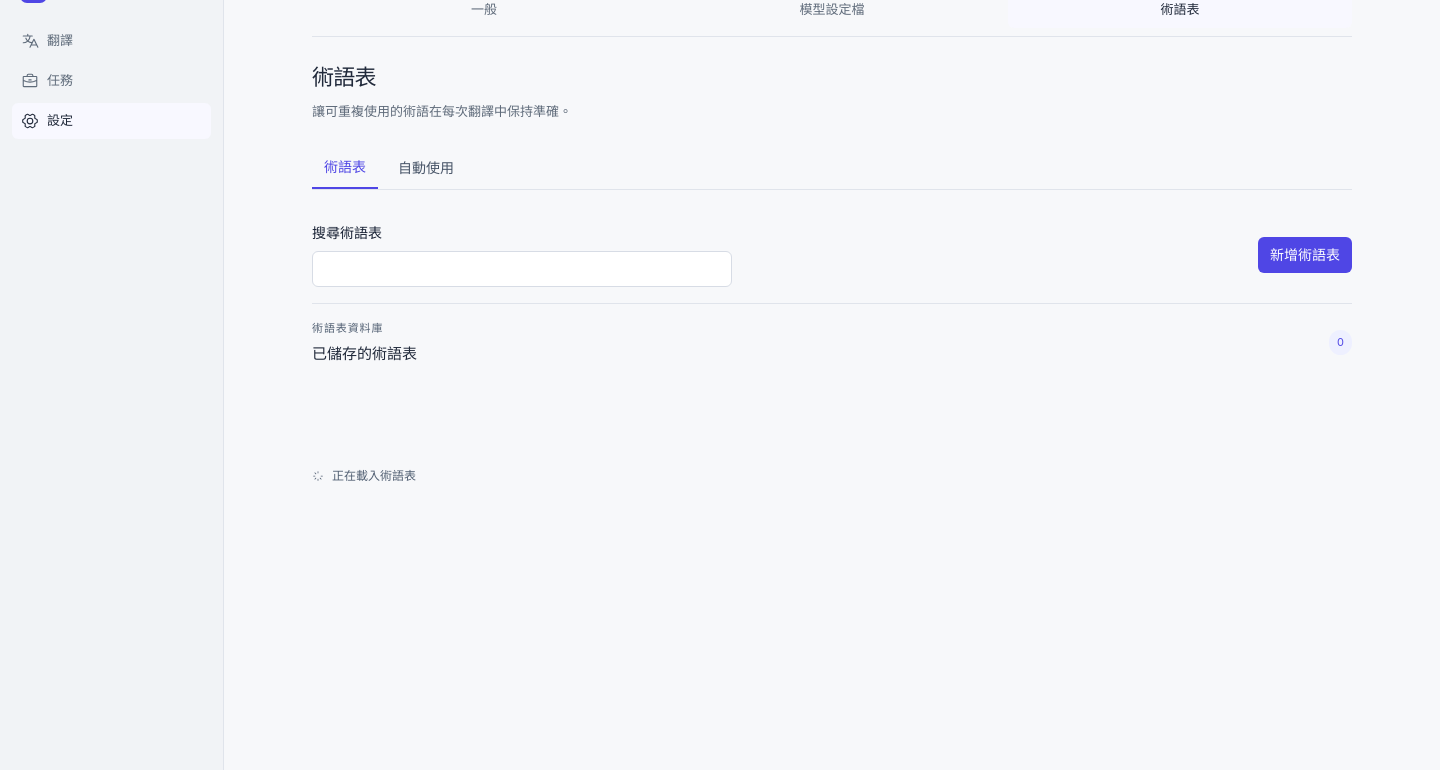
Test: product shell › localizes Term map guidance for zh-TW
The width and height of the screenshot is (1440, 770).
What coordinates should you click on to do the following:
click the button "新增術語表"
I would click on:
 (1305, 255)
Its box is [1258, 237, 1352, 273].
(page scrolled)
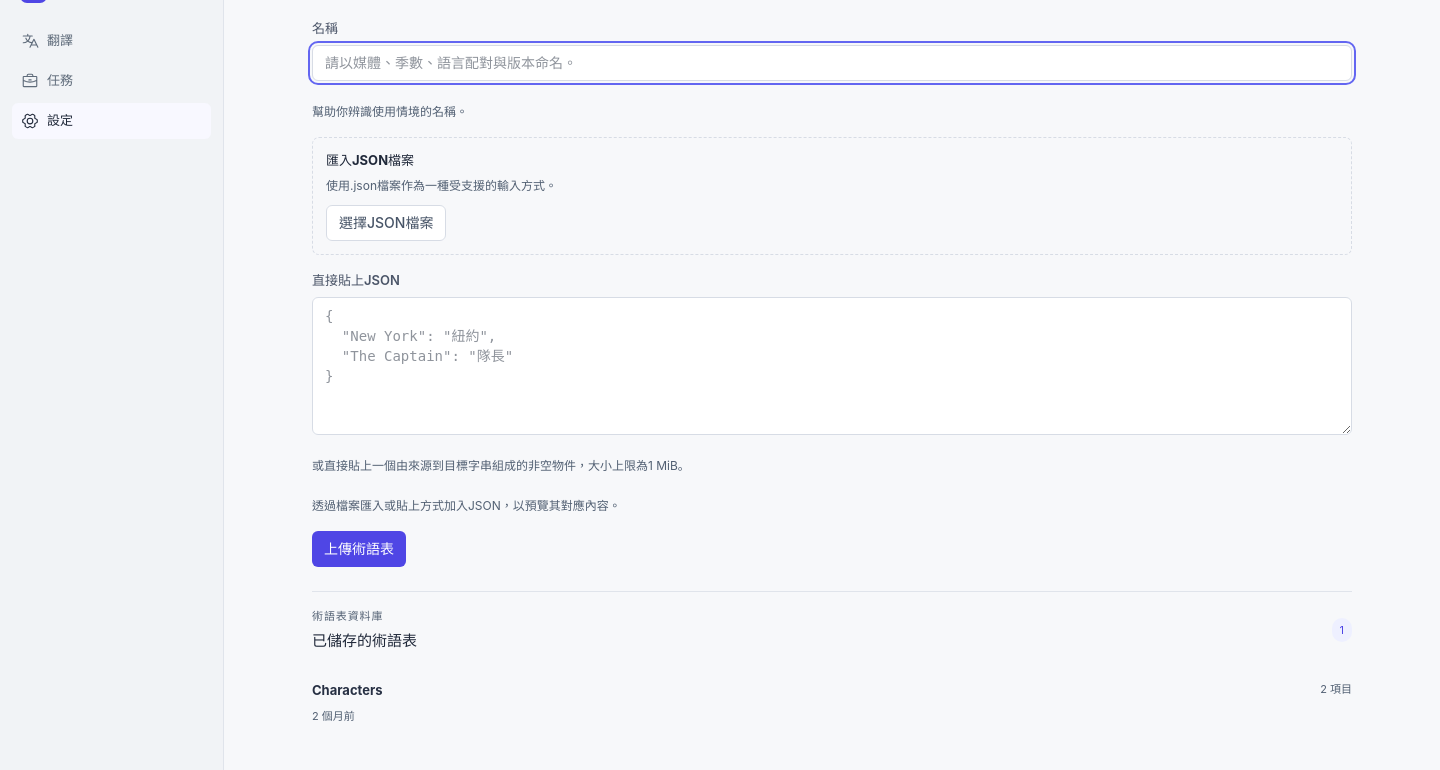
Now the text "幫助你辨識使用情境的名稱。" is shown, box [312, 104, 468, 119]
